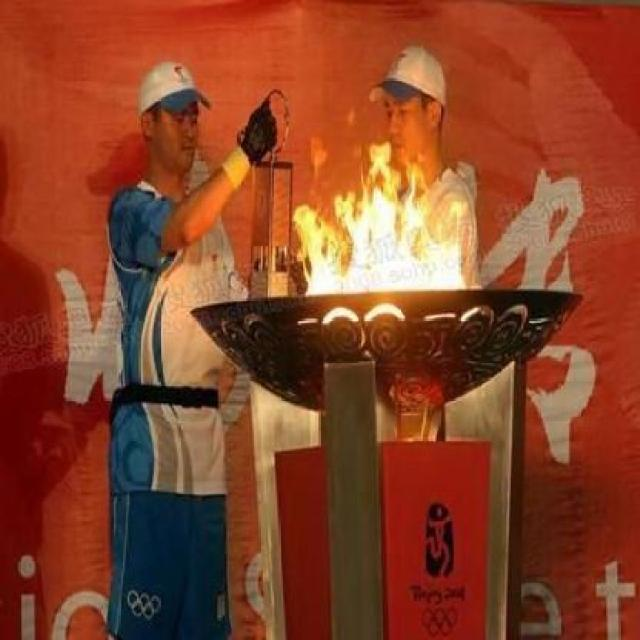Fire: (293, 137, 483, 300)
